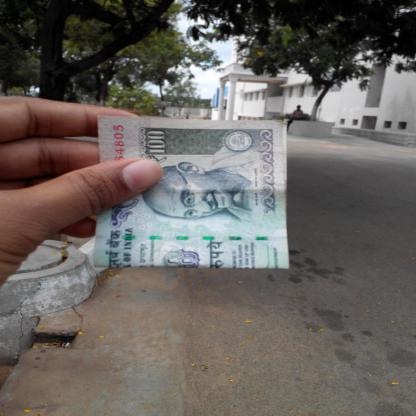Old100Front: (94, 115, 290, 270)
